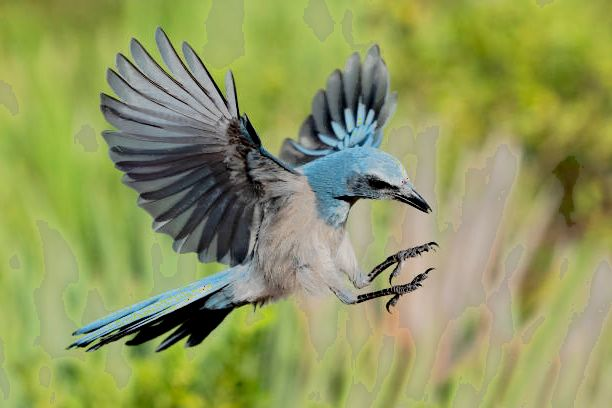Bird: (62, 23, 445, 358)
